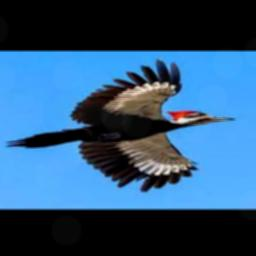Woodpecker: (5, 58, 236, 192)
